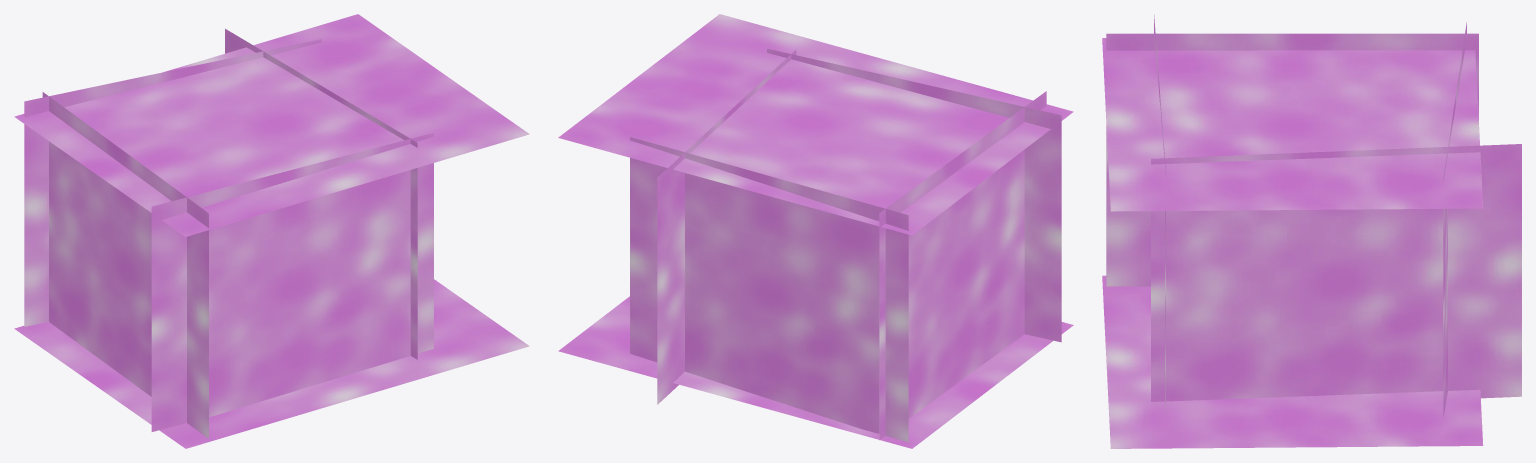
Rendered from juegomapa3-transformed.glb.
3 views of the same model, side by side, from view 1: azimuth 30°, elevation 25°; view 2: azimuth 150°, elevation 25°; view 3: azimuth 270°, elevation 25° (orthographic). The views are drawn at different scales.
Visible parts, largest first — view 1: images; view 2: images; view 3: images.
Part boxes in pixels (bbox=[...]): images: bbox=[14, 14, 529, 448]; images: bbox=[558, 14, 1073, 448]; images: bbox=[1102, 14, 1521, 448].
Bounding box in the file's own units: 9122 × 5536 × 8242.
Materials: 14 (8 with a texture image).
